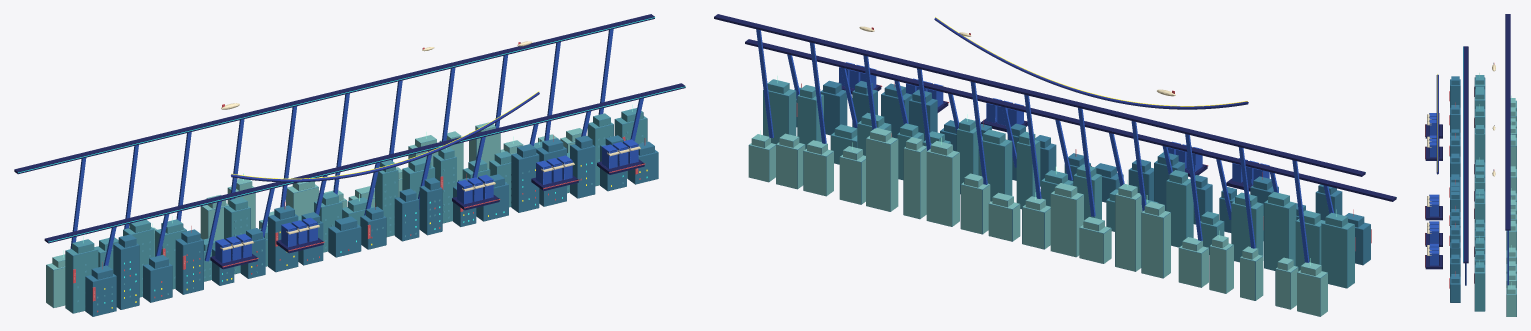
File: orbital_city.glb
3 renders of one model, left to right at view 1: azimuth 30°, elevation 25°; view 2: azimuth 150°, elevation 25°; view 3: azimuth 270°, elevation 25°, orthographic. The views are drawn at different scales.
Visible parts, largest first — view 1: orbital_city_Static; view 2: orbital_city_Static; view 3: orbital_city_Static.
Boxes of the visible parts, x1,y1,x2,y2 form: orbital_city_Static: [14, 14, 685, 316]; orbital_city_Static: [714, 14, 1396, 316]; orbital_city_Static: [1425, 14, 1516, 316].
Bounding box in the file's own units: 145 × 38.93 × 26.11.
